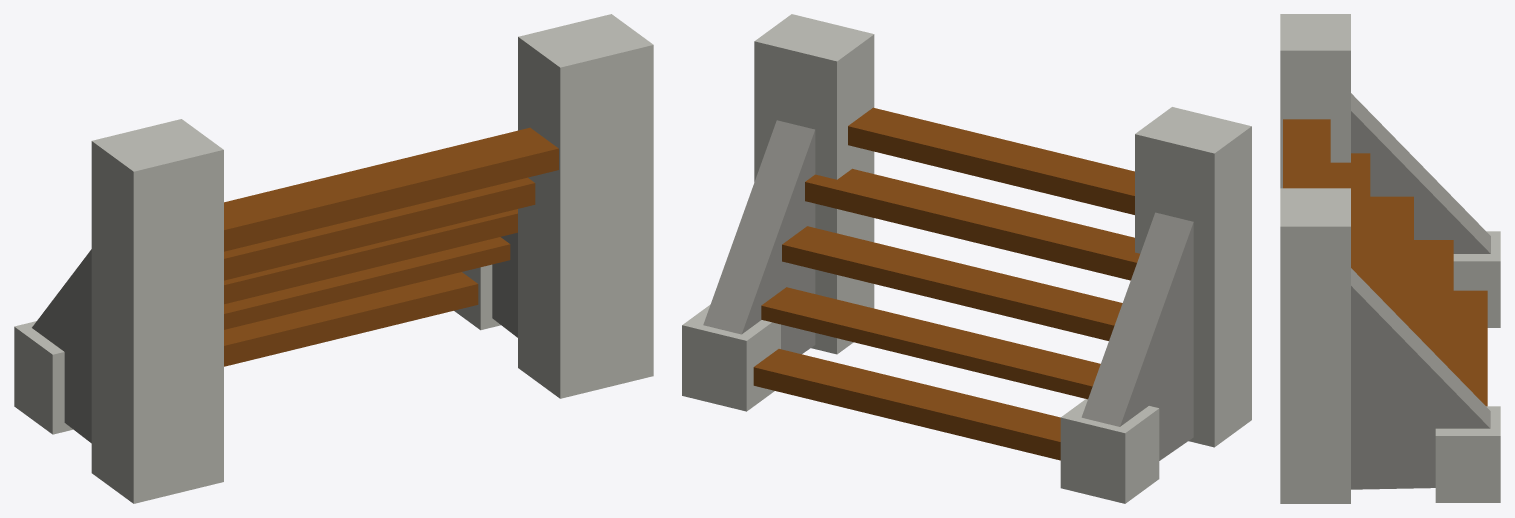
Rendered from castlestairs_oneway.fbx.
3 views of the same model, side by side, from view 1: azimuth 30°, elevation 25°; view 2: azimuth 150°, elevation 25°; view 3: azimuth 270°, elevation 25° (orthographic). The views are drawn at different scales.
Visible parts, largest first — view 1: polySurface126; view 2: polySurface126; view 3: polySurface126.
Boxes of the visible parts, x1,y1,x2,y2 form: polySurface126: (14, 14, 653, 503); polySurface126: (682, 14, 1251, 503); polySurface126: (1280, 14, 1500, 503).
Size of the model in its own units: 105 by 64.45 by 45.98.
1 material, 1 textured.
